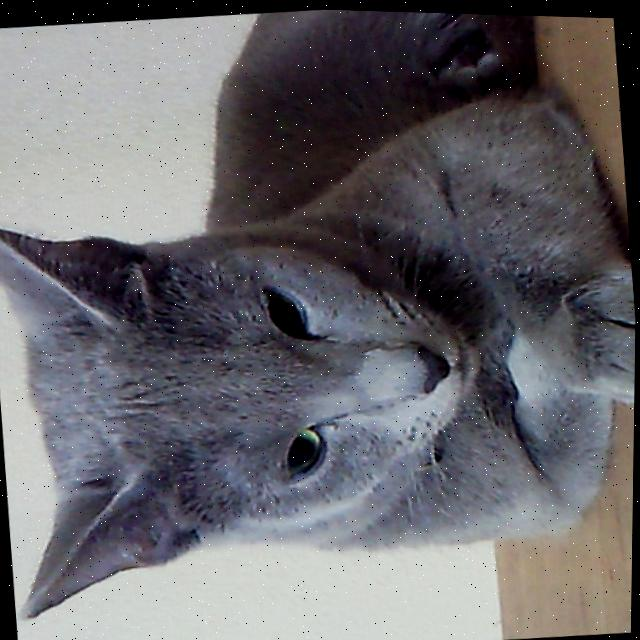Russian Blue: (0, 0, 640, 636)
